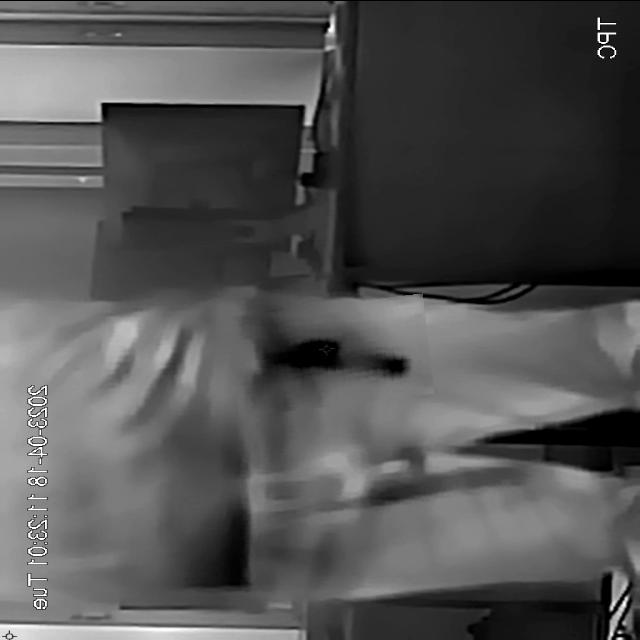Weapon: (229, 298, 432, 411)
